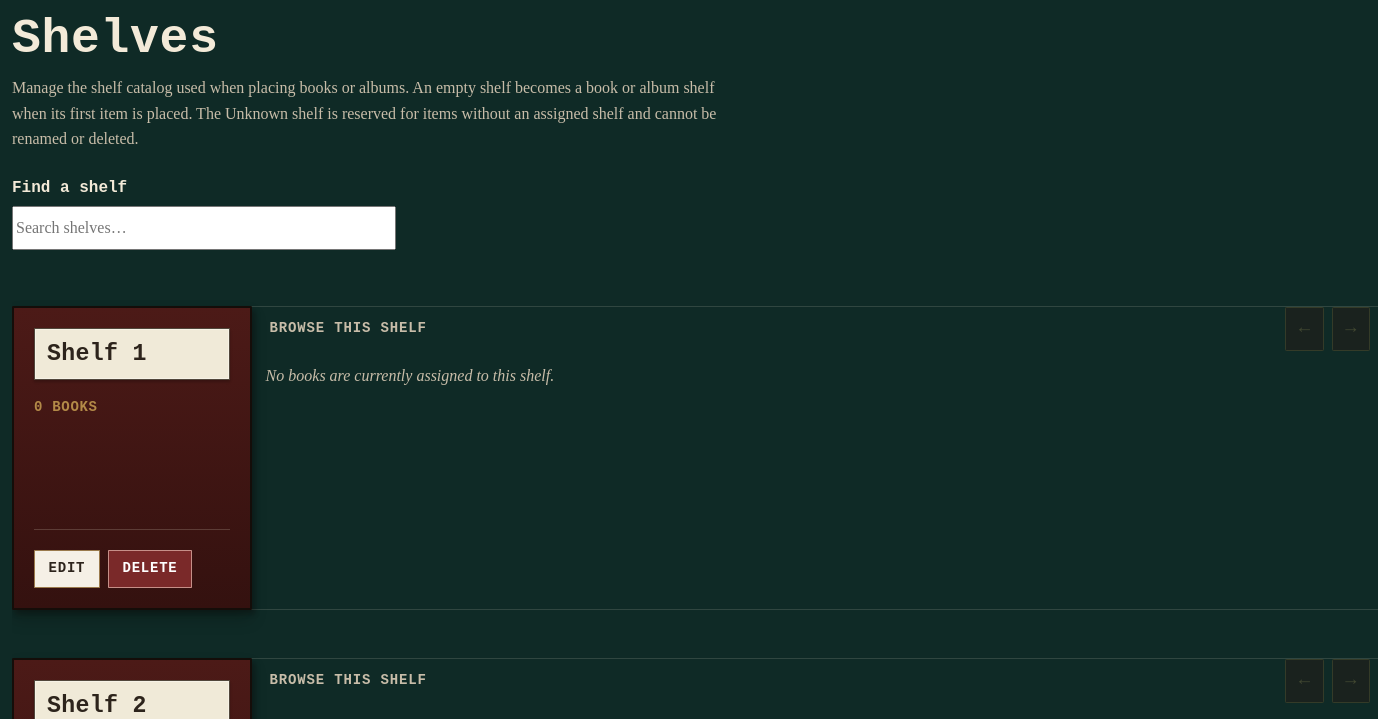
ShelvesPage › filters the complete catalog by a partial shelf name
The image size is (1378, 719).
In the search field labelled "Find a shelf": (204, 228) [12,206,396,250], type "shelf 12"
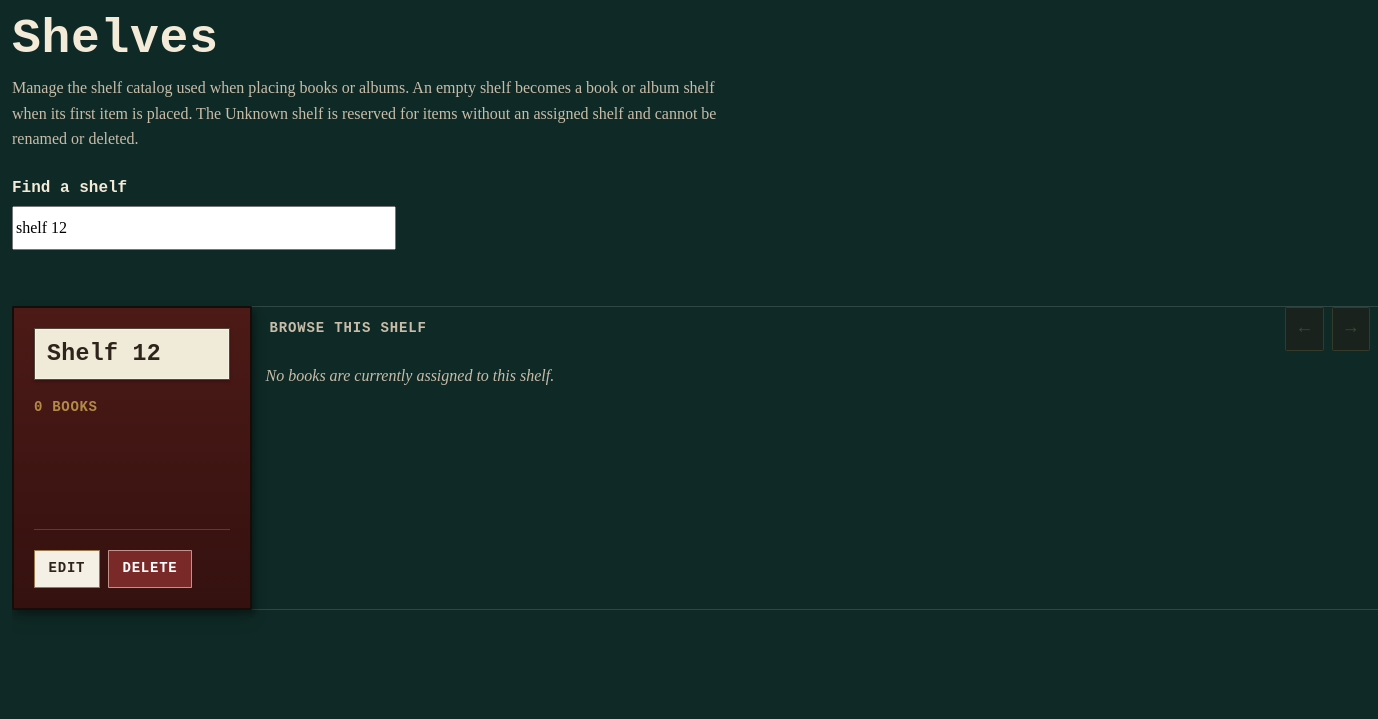
Expected: the heading "Shelf 12" is shown, [47,341,161,367]
